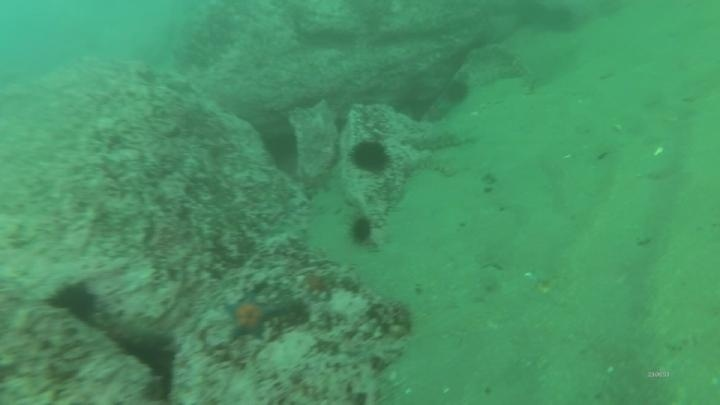echinus: (48, 280, 100, 324), (261, 129, 301, 172), (348, 137, 392, 175), (346, 214, 377, 248), (441, 77, 472, 108)
holothurian: (401, 124, 476, 154), (401, 151, 461, 179)
starfish: (221, 290, 287, 343)
